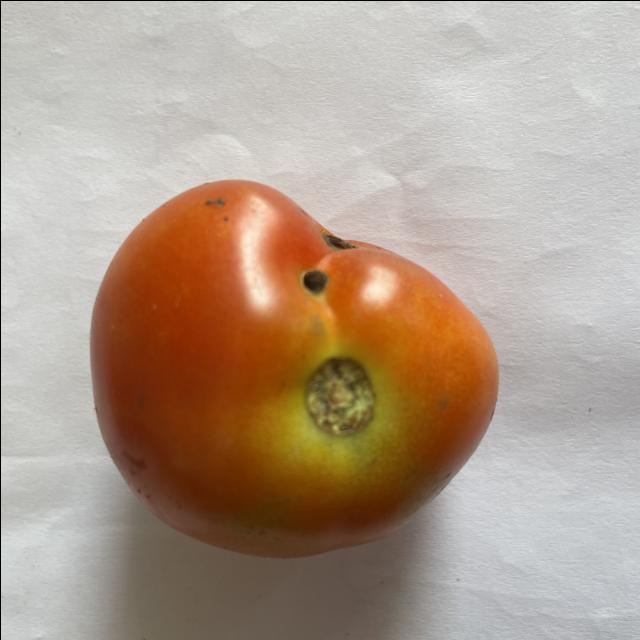fruitworm_bore: (296, 214, 361, 298)
